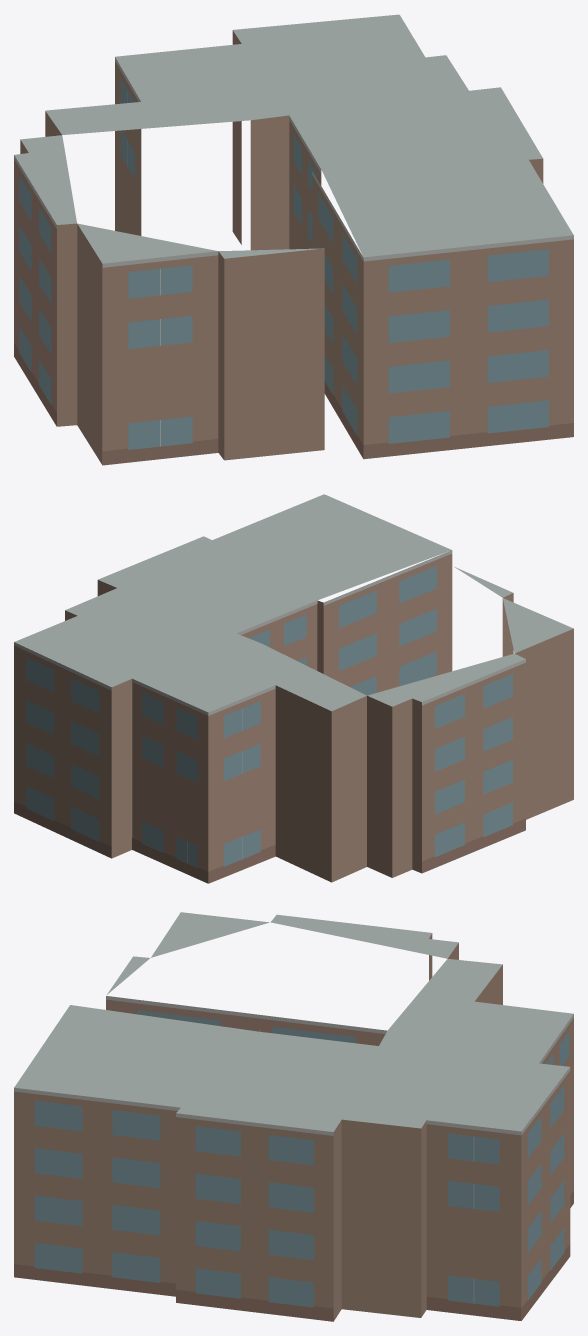
The model's file is survey-upis-32465458.glb.
The picture shows the model from 3 angles, top to bottom: view 1: azimuth 30°, elevation 25°; view 2: azimuth 150°, elevation 25°; view 3: azimuth 270°, elevation 25°; orthographic projection. The views are drawn at different scales.
Visible parts, largest first — view 1: survey-upis-32465458.tmp; view 2: survey-upis-32465458.tmp; view 3: survey-upis-32465458.tmp.
Part boxes in pixels (<box>): survey-upis-32465458.tmp: <box>14,14,573,465</box>; survey-upis-32465458.tmp: <box>14,494,573,883</box>; survey-upis-32465458.tmp: <box>14,912,573,1321</box>.
Bounding box in the file's own units: 30.37 × 12.2 × 32.66.
